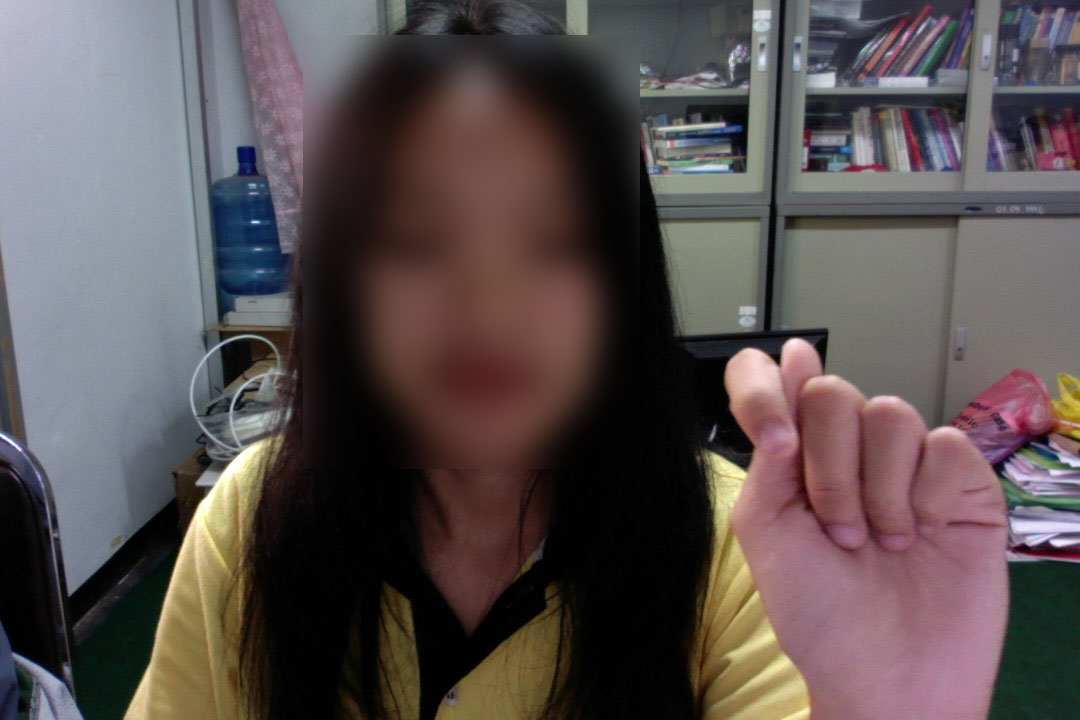tor: (716, 335, 1023, 719)
